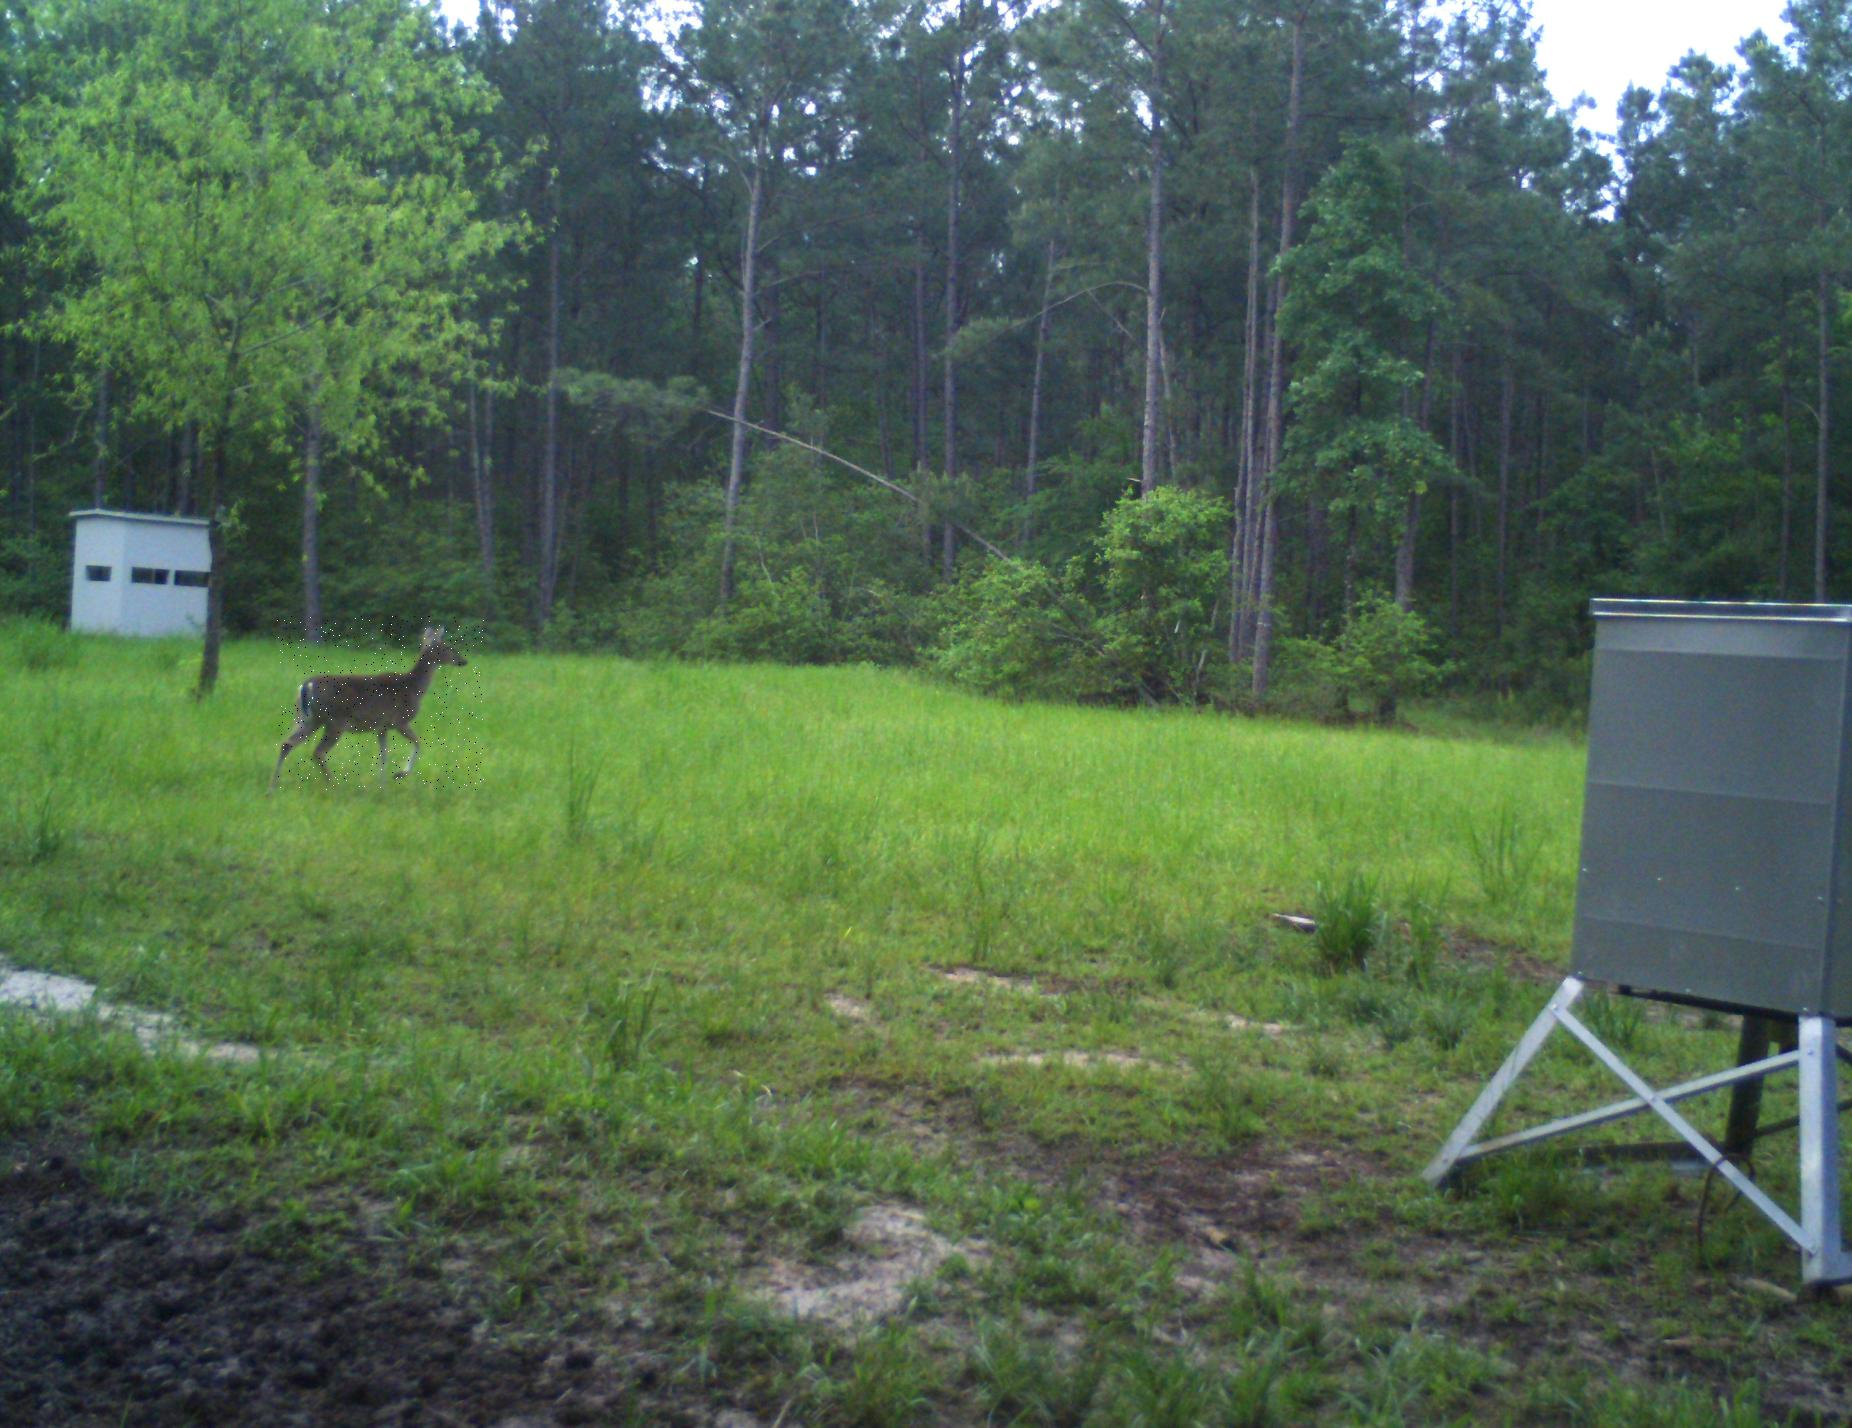Deer: (276, 616, 484, 790)
